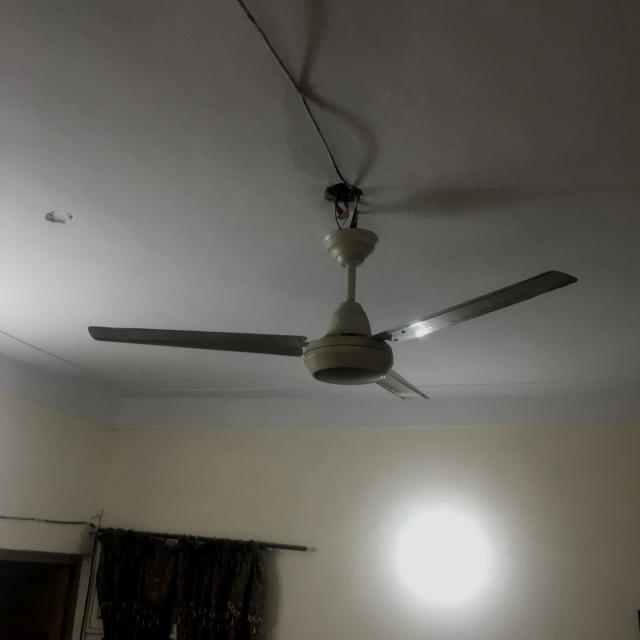off: (81, 260, 586, 410)
